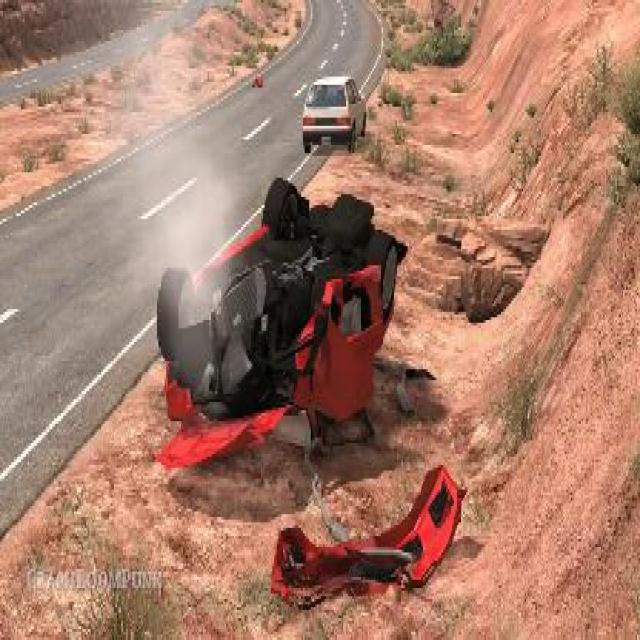accident: (152, 164, 408, 471)
